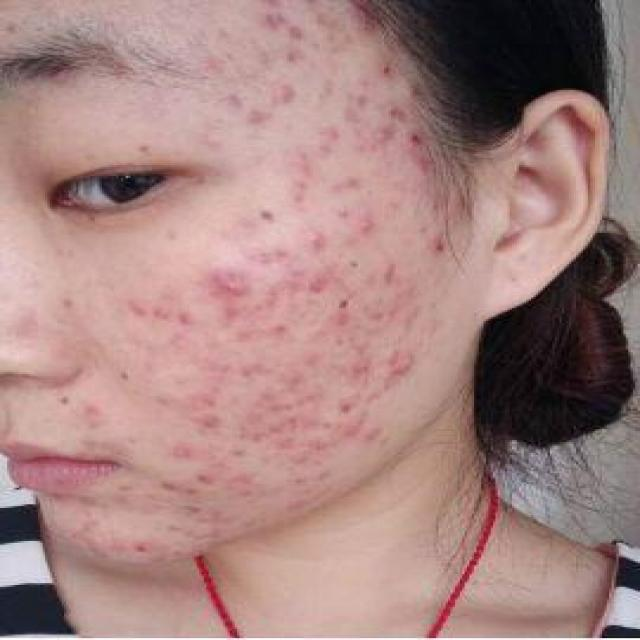nodule: (374, 336, 426, 378), (201, 300, 256, 336), (263, 308, 313, 347), (194, 266, 249, 301), (118, 292, 168, 330), (329, 352, 377, 389), (292, 218, 339, 255), (403, 119, 441, 163), (278, 150, 330, 180), (171, 292, 204, 338), (180, 394, 216, 436), (306, 119, 358, 147), (265, 48, 325, 72), (159, 438, 206, 468), (239, 359, 275, 398), (353, 429, 403, 457), (251, 81, 301, 108), (289, 427, 334, 457), (324, 407, 362, 442), (427, 224, 467, 256), (249, 240, 289, 272), (325, 203, 379, 226), (356, 42, 394, 74), (192, 468, 232, 498), (377, 258, 412, 292), (386, 297, 427, 325), (197, 358, 239, 385), (308, 268, 353, 293), (330, 304, 365, 334), (275, 363, 313, 389), (291, 383, 332, 407), (280, 264, 315, 292), (306, 6, 344, 31), (144, 388, 182, 412), (182, 521, 220, 543), (100, 530, 132, 556), (365, 123, 398, 148), (156, 515, 190, 539), (263, 405, 294, 431), (325, 172, 365, 192), (175, 499, 211, 521), (220, 438, 253, 462), (336, 90, 369, 112), (76, 400, 109, 422), (237, 422, 270, 444), (199, 52, 232, 74), (173, 539, 206, 561), (284, 182, 316, 204), (228, 464, 260, 486), (128, 534, 159, 556), (253, 282, 284, 304), (258, 4, 284, 29), (144, 473, 178, 492), (277, 22, 306, 44), (237, 404, 266, 426), (282, 494, 313, 514), (232, 510, 263, 530), (78, 514, 109, 534), (100, 491, 132, 510), (109, 477, 142, 495), (374, 103, 412, 117), (220, 86, 240, 105), (244, 110, 261, 123)
